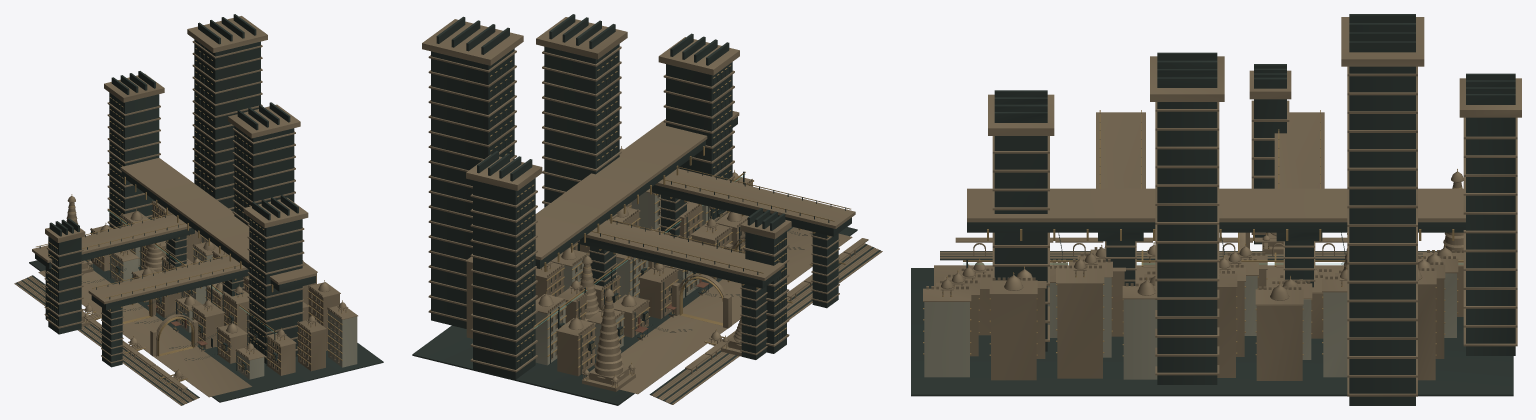
Rendered from riverfront-core.glb.
The picture shows the model from 3 angles, left to right: view 1: azimuth 30°, elevation 25°; view 2: azimuth 150°, elevation 25°; view 3: azimuth 270°, elevation 25°; orthographic projection. The views are drawn at different scales.
Visible parts, largest first — view 1: 54e-sand, 54e-dark, 54e-bronze, 54e-plaster; view 2: 54e-dark, 54e-sand, 54e-bronze, 54e-plaster; view 3: 54e-dark, 54e-sand, 54e-plaster, 54e-bronze.
Part boxes in pixels (box(x1,y1,x2,y2)): 54e-sand: box(14, 16, 357, 405); 54e-dark: box(16, 14, 383, 405); 54e-bronze: box(36, 48, 346, 384); 54e-plaster: box(111, 216, 357, 379); 54e-dark: box(412, 14, 880, 405); 54e-sand: box(422, 17, 882, 404); 54e-bronze: box(490, 56, 850, 387); 54e-plaster: box(535, 192, 709, 365); 54e-dark: box(911, 14, 1515, 405); 54e-sand: box(923, 17, 1521, 396); 54e-plaster: box(924, 273, 1456, 379); 54e-bronze: box(923, 110, 1463, 356).
Size of the model in its own units: 106 by 97.34 by 147.
